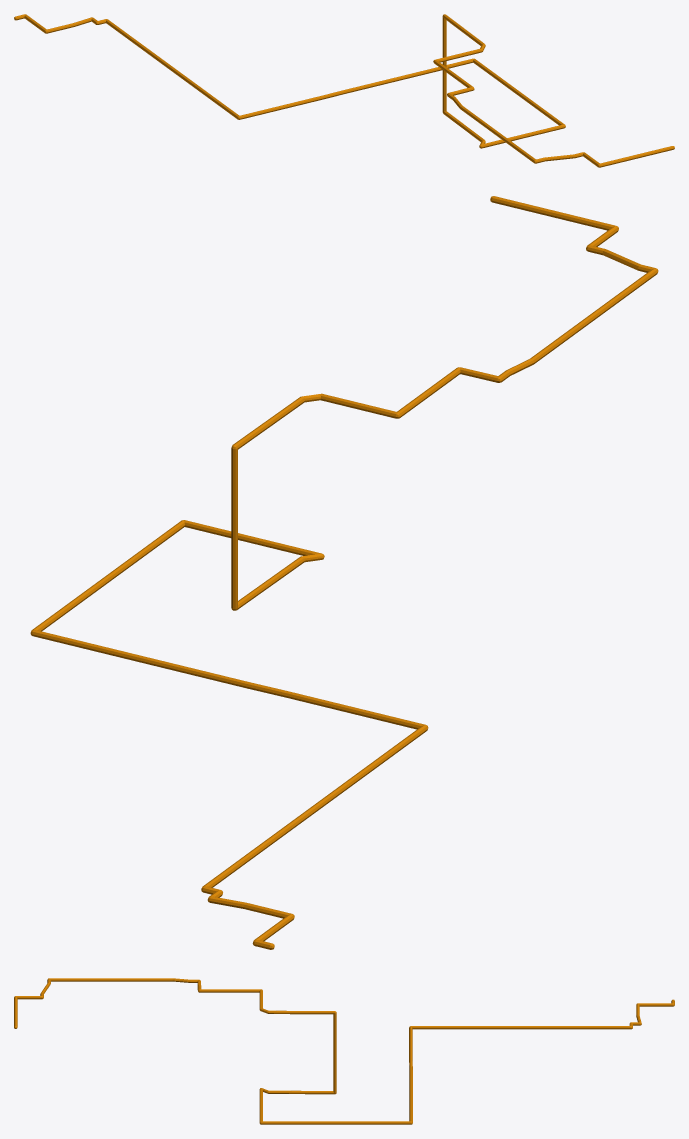
3 renders of one model, top to bottom at view 1: azimuth 30°, elevation 25°; view 2: azimuth 150°, elevation 25°; view 3: azimuth 270°, elevation 25°, orthographic. The views are drawn at different scales.
Size of the model in its own units: 1655 by 520 by 3748.
